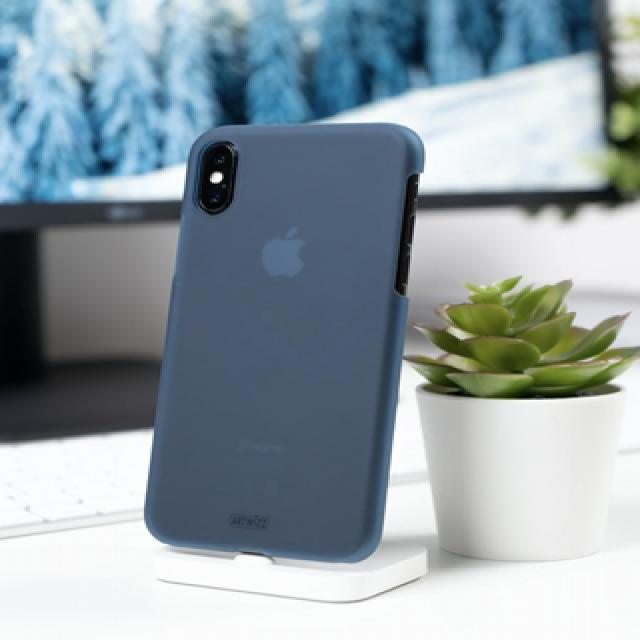cellphone: (142, 120, 424, 568)
